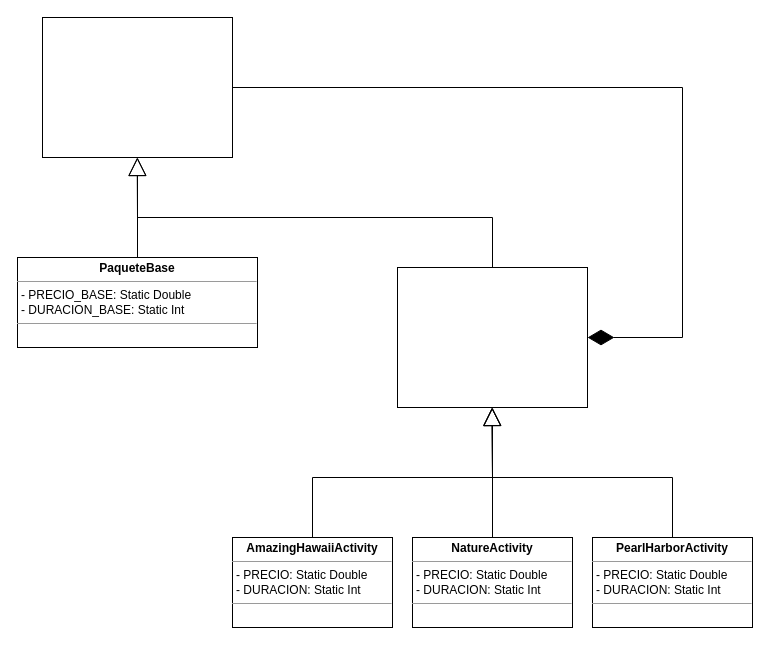
Some shapes in this 770 by 645 pixel diagram are drawn without their labels. The centre of each missing label's shape, as x and y in pixels:
"<<Interface>> IDecorado + getPrecio(): Double + getDuracion(): int" goes at pixel 137 87.
"<<Interface>> IDecorador -IDecorado: planBase" goes at pixel 492 337.
